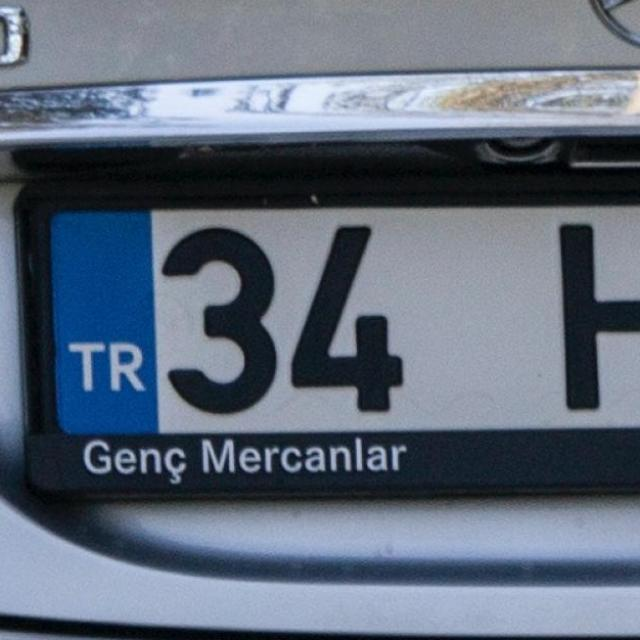LicensePlate: (0, 172, 553, 446)
